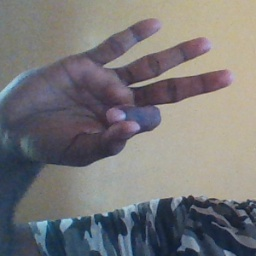K: (4, 18, 234, 167)
